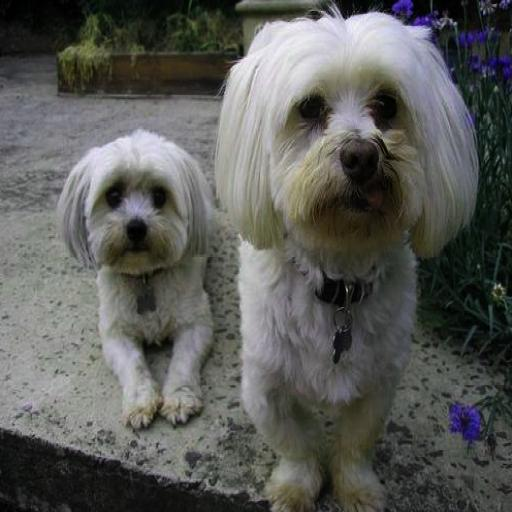dog_face: (217, 16, 482, 263), (62, 137, 211, 275)
